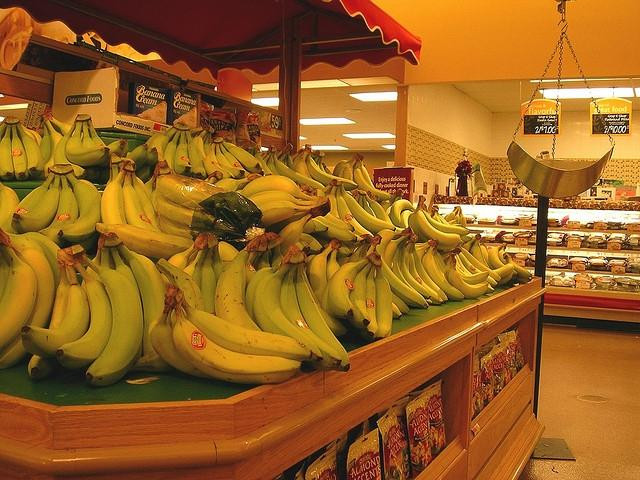almond: (378, 396, 411, 477), (406, 390, 432, 472), (376, 405, 404, 480), (346, 427, 382, 480), (492, 341, 507, 395), (424, 428, 428, 434)
banana: (173, 300, 302, 384), (182, 297, 314, 361), (252, 248, 324, 362), (82, 254, 144, 386), (0, 227, 54, 370), (279, 264, 342, 372), (294, 263, 350, 373), (58, 262, 114, 368), (118, 242, 166, 354), (27, 260, 70, 380), (214, 249, 263, 331), (1, 245, 38, 352), (58, 172, 102, 243), (10, 175, 60, 235), (38, 173, 79, 244), (341, 183, 396, 233), (150, 187, 216, 226), (329, 258, 370, 319), (381, 256, 429, 308), (422, 245, 465, 301), (408, 242, 444, 305), (398, 234, 431, 300), (122, 172, 157, 232), (306, 238, 342, 296), (81, 122, 126, 168), (414, 202, 460, 246), (65, 122, 110, 166), (34, 113, 63, 181), (335, 186, 374, 236), (240, 175, 316, 200), (306, 154, 358, 190), (54, 121, 86, 179), (100, 161, 128, 225), (162, 240, 200, 287), (157, 176, 212, 208), (160, 216, 230, 241), (455, 243, 501, 281), (110, 246, 141, 302), (273, 154, 324, 188), (353, 160, 394, 202), (348, 262, 372, 330), (370, 266, 392, 340), (257, 200, 312, 228), (16, 123, 44, 177), (201, 236, 219, 316), (222, 139, 263, 174), (456, 254, 492, 287), (313, 215, 358, 241), (185, 128, 207, 181), (204, 143, 235, 179), (246, 190, 314, 206), (220, 143, 250, 177), (216, 144, 245, 179), (488, 243, 518, 276), (164, 125, 184, 174), (364, 262, 377, 336), (0, 124, 15, 182), (366, 194, 394, 225), (174, 131, 192, 177), (336, 242, 366, 267), (390, 199, 416, 227), (408, 212, 429, 244), (343, 156, 360, 193), (126, 144, 148, 172), (294, 148, 312, 180), (326, 250, 341, 283), (326, 186, 340, 218), (458, 270, 488, 284), (267, 152, 281, 176), (362, 196, 377, 218), (338, 162, 352, 178), (434, 252, 444, 272), (507, 280, 518, 286)
